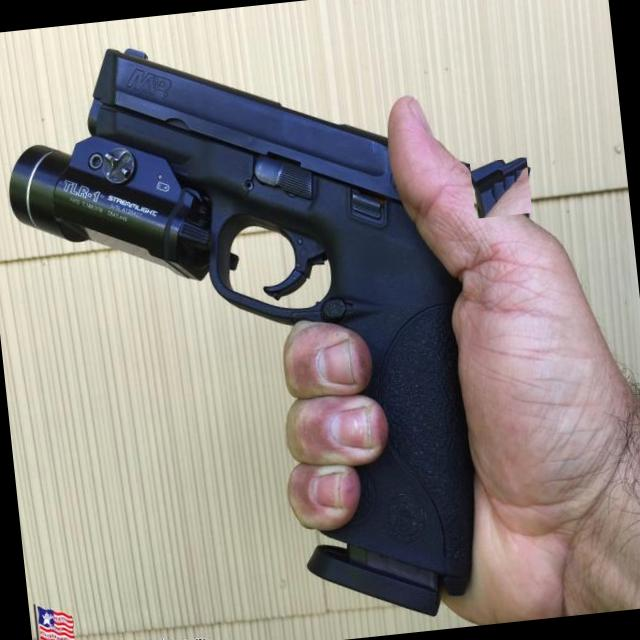Gun: (10, 49, 473, 613), (470, 159, 527, 218)
